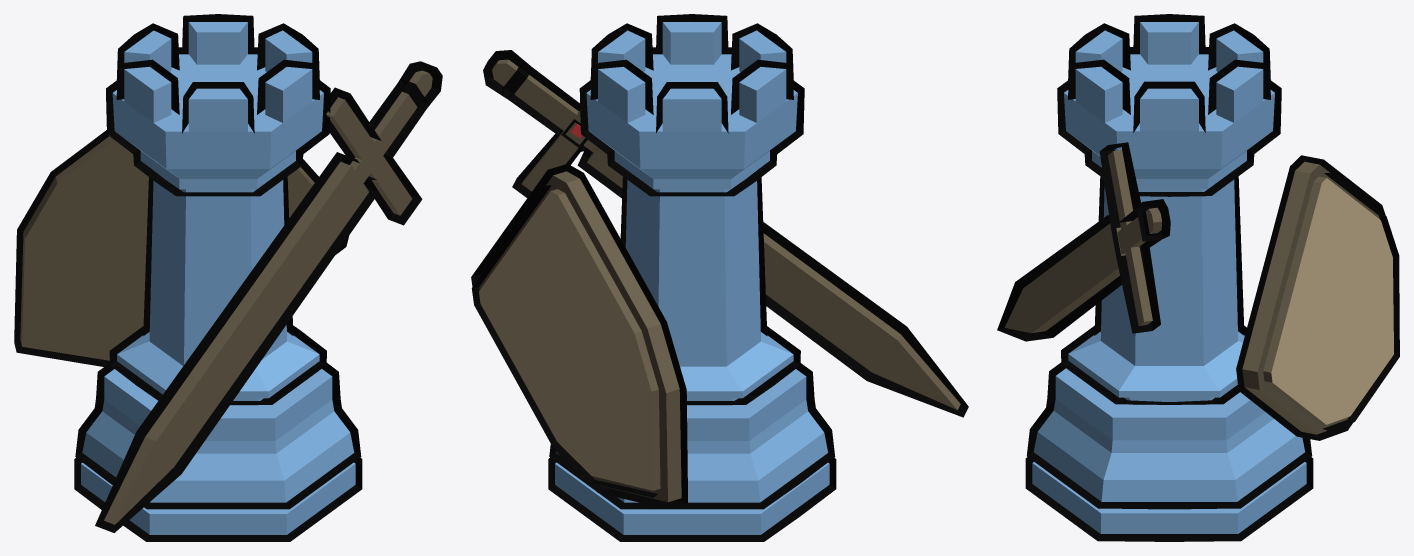
The model's file is soldier_fbx.fbx.
The picture shows the model from 3 angles, left to right: view 1: azimuth 30°, elevation 25°; view 2: azimuth 150°, elevation 25°; view 3: azimuth 270°, elevation 25°; orthographic projection.
Visible parts, largest first — view 1: man, sword, shield; view 2: man, shield, sword; view 3: man, shield, sword.
Boxes of the visible parts, bbox=[...] form: man: bbox=[74, 14, 362, 541]; sword: bbox=[95, 61, 442, 532]; shield: bbox=[14, 130, 349, 366]; man: bbox=[548, 14, 836, 541]; shield: bbox=[471, 163, 687, 509]; sword: bbox=[483, 50, 968, 417]; man: bbox=[1025, 14, 1313, 541]; shield: bbox=[1236, 155, 1399, 440]; sword: bbox=[997, 142, 1170, 341].
Size of the model in its own units: 197 by 202 by 167.
